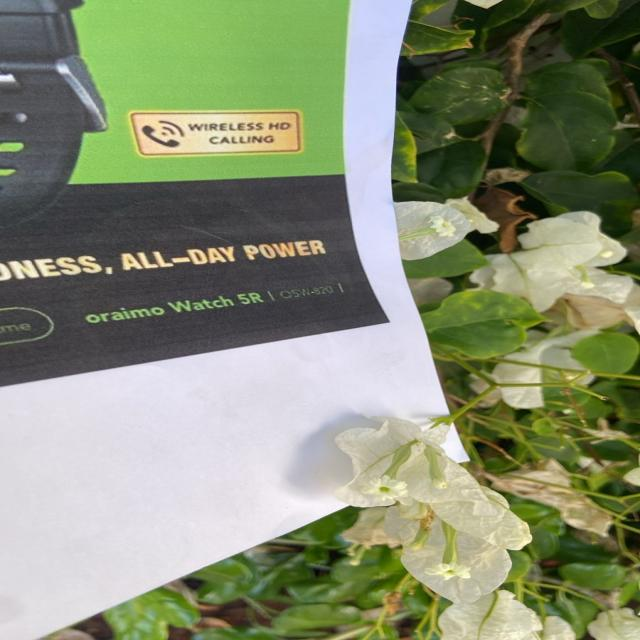Oraimo Watch 5R OSW-820: (71, 280, 358, 332)
